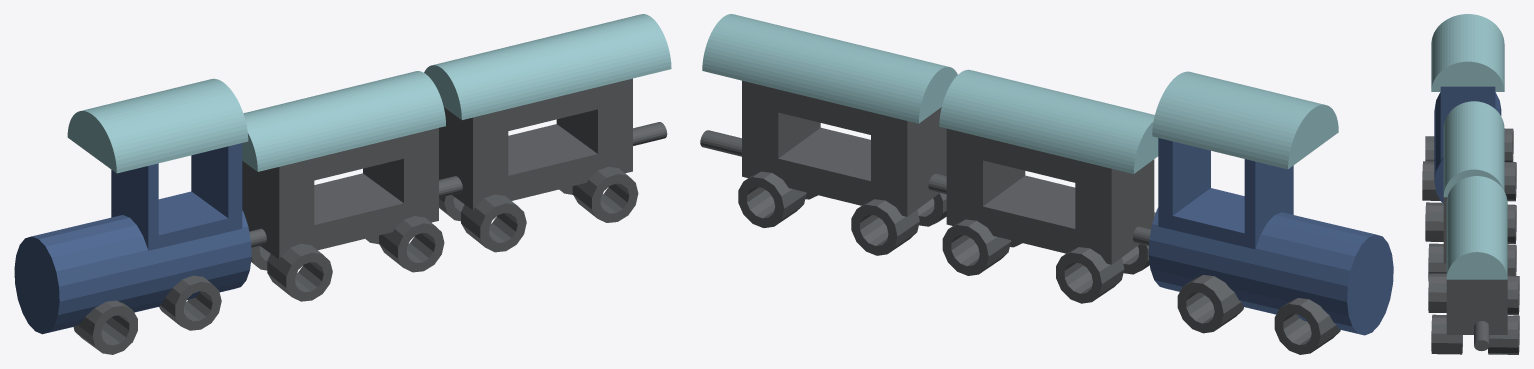
File: project-150.glb
3 views of the same model, side by side, from view 1: azimuth 30°, elevation 25°; view 2: azimuth 150°, elevation 25°; view 3: azimuth 270°, elevation 25° (orthographic). The views are drawn at different scales.
Visible parts, largest first — view 1: Mesh_Mesh_head_geo.001_lambert2SG.001; view 2: Mesh_Mesh_head_geo.001_lambert2SG.001; view 3: Mesh_Mesh_head_geo.001_lambert2SG.001.
Part boxes in pixels (x1,y1,x2,y2): Mesh_Mesh_head_geo.001_lambert2SG.001: [14, 14, 671, 354]; Mesh_Mesh_head_geo.001_lambert2SG.001: [700, 14, 1393, 354]; Mesh_Mesh_head_geo.001_lambert2SG.001: [1422, 14, 1519, 354].
Size of the model in its own units: 179 by 58.45 by 32.
